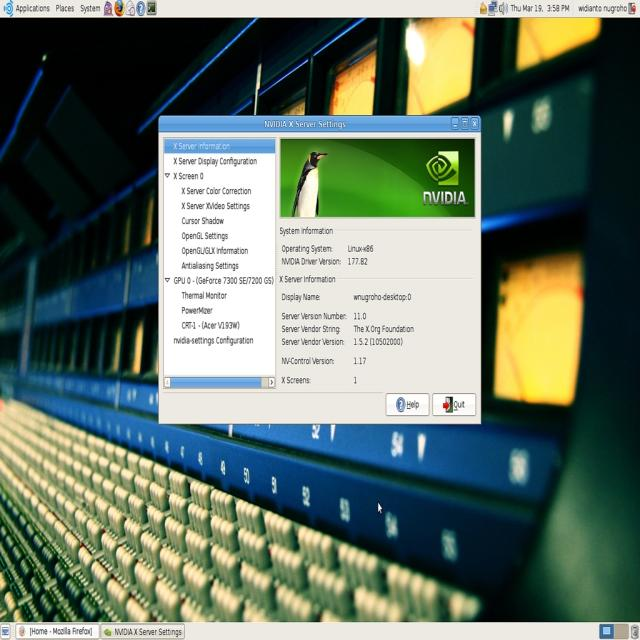nvidia: (426, 151, 460, 187)
